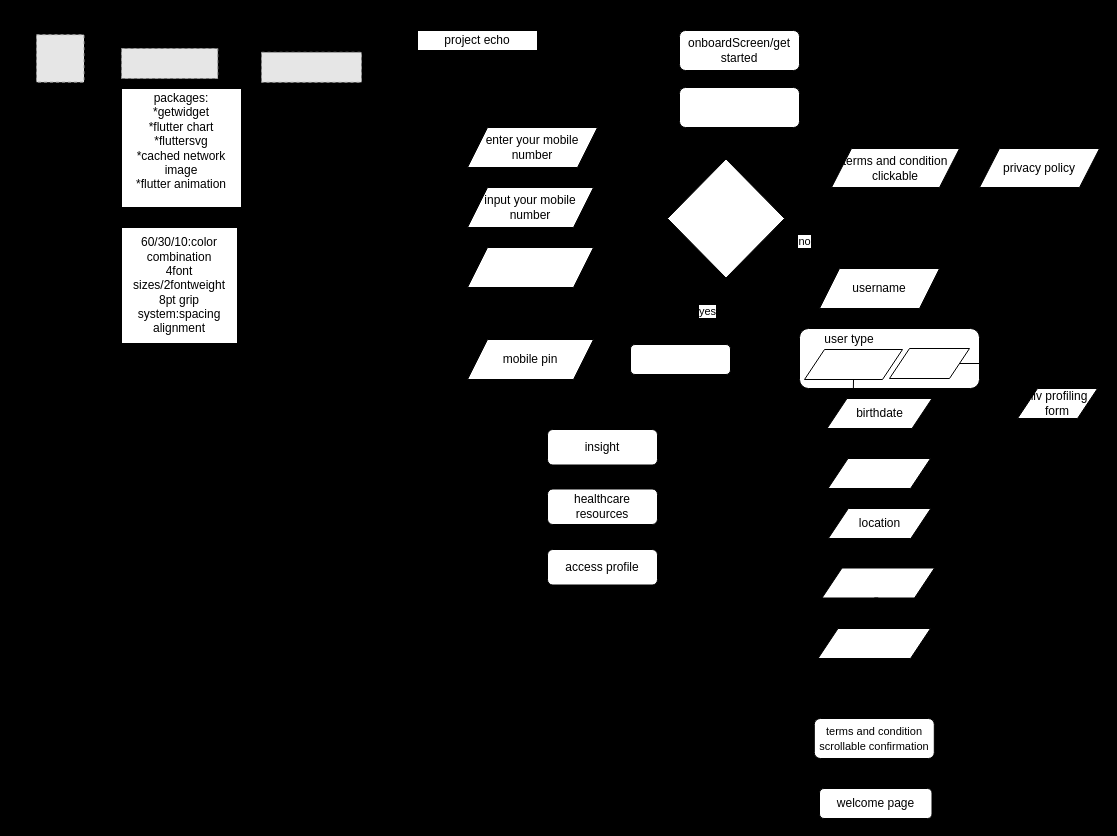
Image size: 1117x836. Some labels were removed from this diagram. Grey dashed boxes stand in for pictures. Each missing label, with the centre of its shape:
"confirm password" belongs at (x=873, y=643).
"create password" belongs at (x=877, y=582).
"gender" belongs at (x=878, y=473).
"homepage" belongs at (x=680, y=359).
"info seeker" belongs at (x=853, y=364).
"is number already registered?" belongs at (x=725, y=218).
"login page" belongs at (x=739, y=107).
"otp" belongs at (x=530, y=267).
"PLHIV" belongs at (x=929, y=363).
